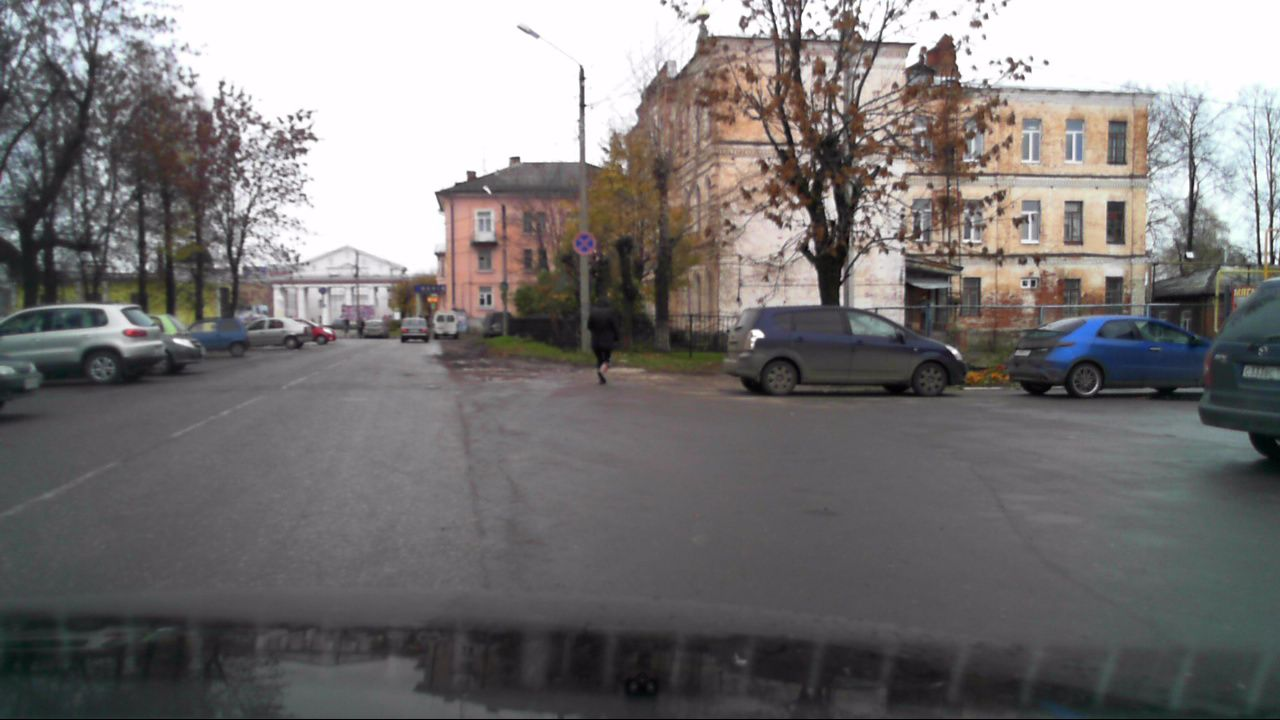No Parking: (571, 230, 596, 255)
